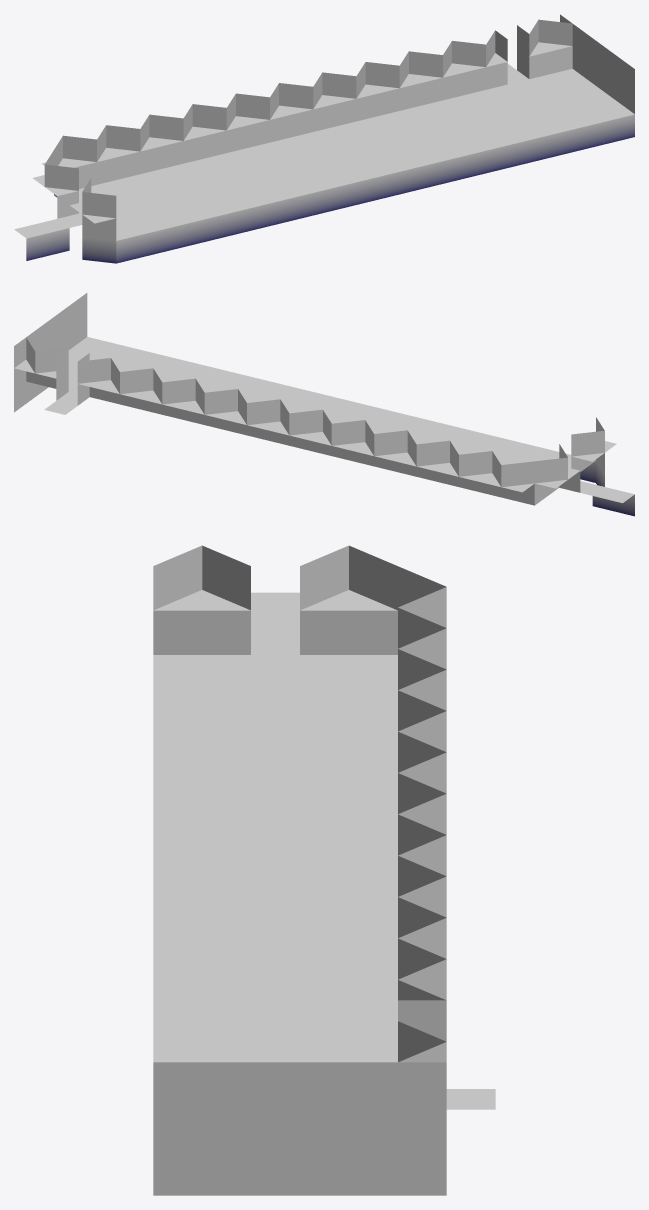
Rendered from evencare5.obj.
3 renders of one model, top to bottom at view 1: azimuth 30°, elevation 25°; view 2: azimuth 150°, elevation 25°; view 3: azimuth 270°, elevation 25°, orthographic. The views are drawn at different scales.
Visible parts, largest first — view 1: Cube; view 2: Cube; view 3: Cube.
Boxes of the visible parts, box(x1,y1,x2,y2) form: Cube: box(14, 14, 634, 263); Cube: box(14, 293, 634, 516); Cube: box(153, 545, 495, 1195).
Bounding box in the file's own units: 27 × 3 × 7.
